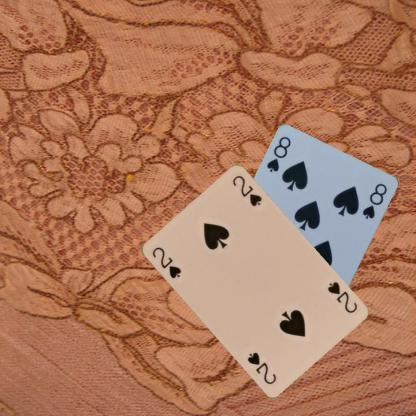2s: (149, 244, 183, 280), (324, 279, 358, 314)
8s: (263, 134, 292, 174)
